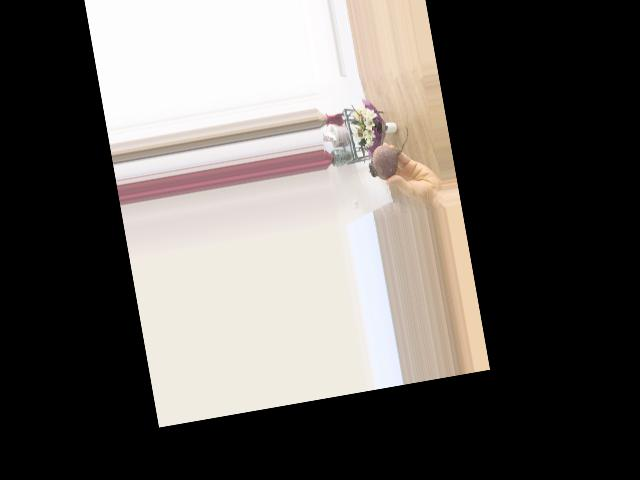beet: (362, 124, 415, 182)
